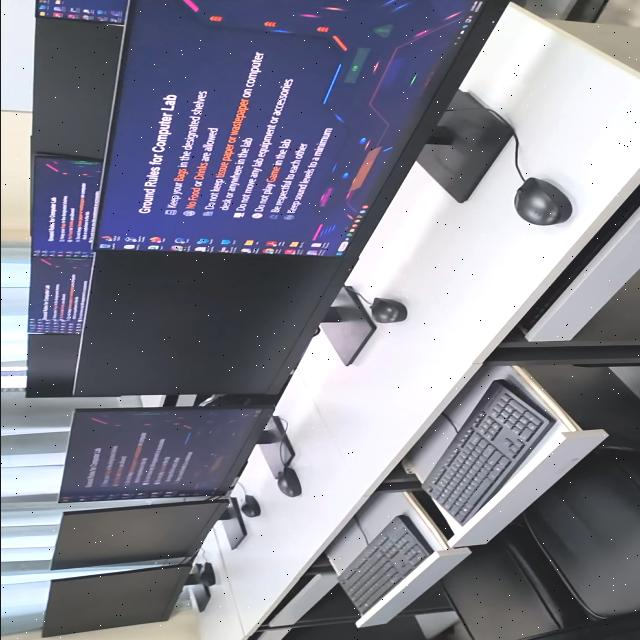Chair: (518, 448, 640, 640), (441, 538, 558, 640), (163, 394, 279, 408)
Keyboard: (421, 380, 554, 525), (337, 515, 433, 615)
Monitor: (96, 0, 510, 256), (74, 251, 375, 396), (58, 396, 293, 502), (51, 497, 245, 569), (30, 19, 121, 161), (41, 565, 189, 637), (30, 155, 101, 258), (27, 254, 91, 334), (25, 335, 78, 398), (36, 0, 126, 24)
Mouse: (513, 178, 571, 226), (369, 298, 406, 323), (275, 467, 300, 497), (195, 562, 214, 587), (239, 495, 259, 517)
